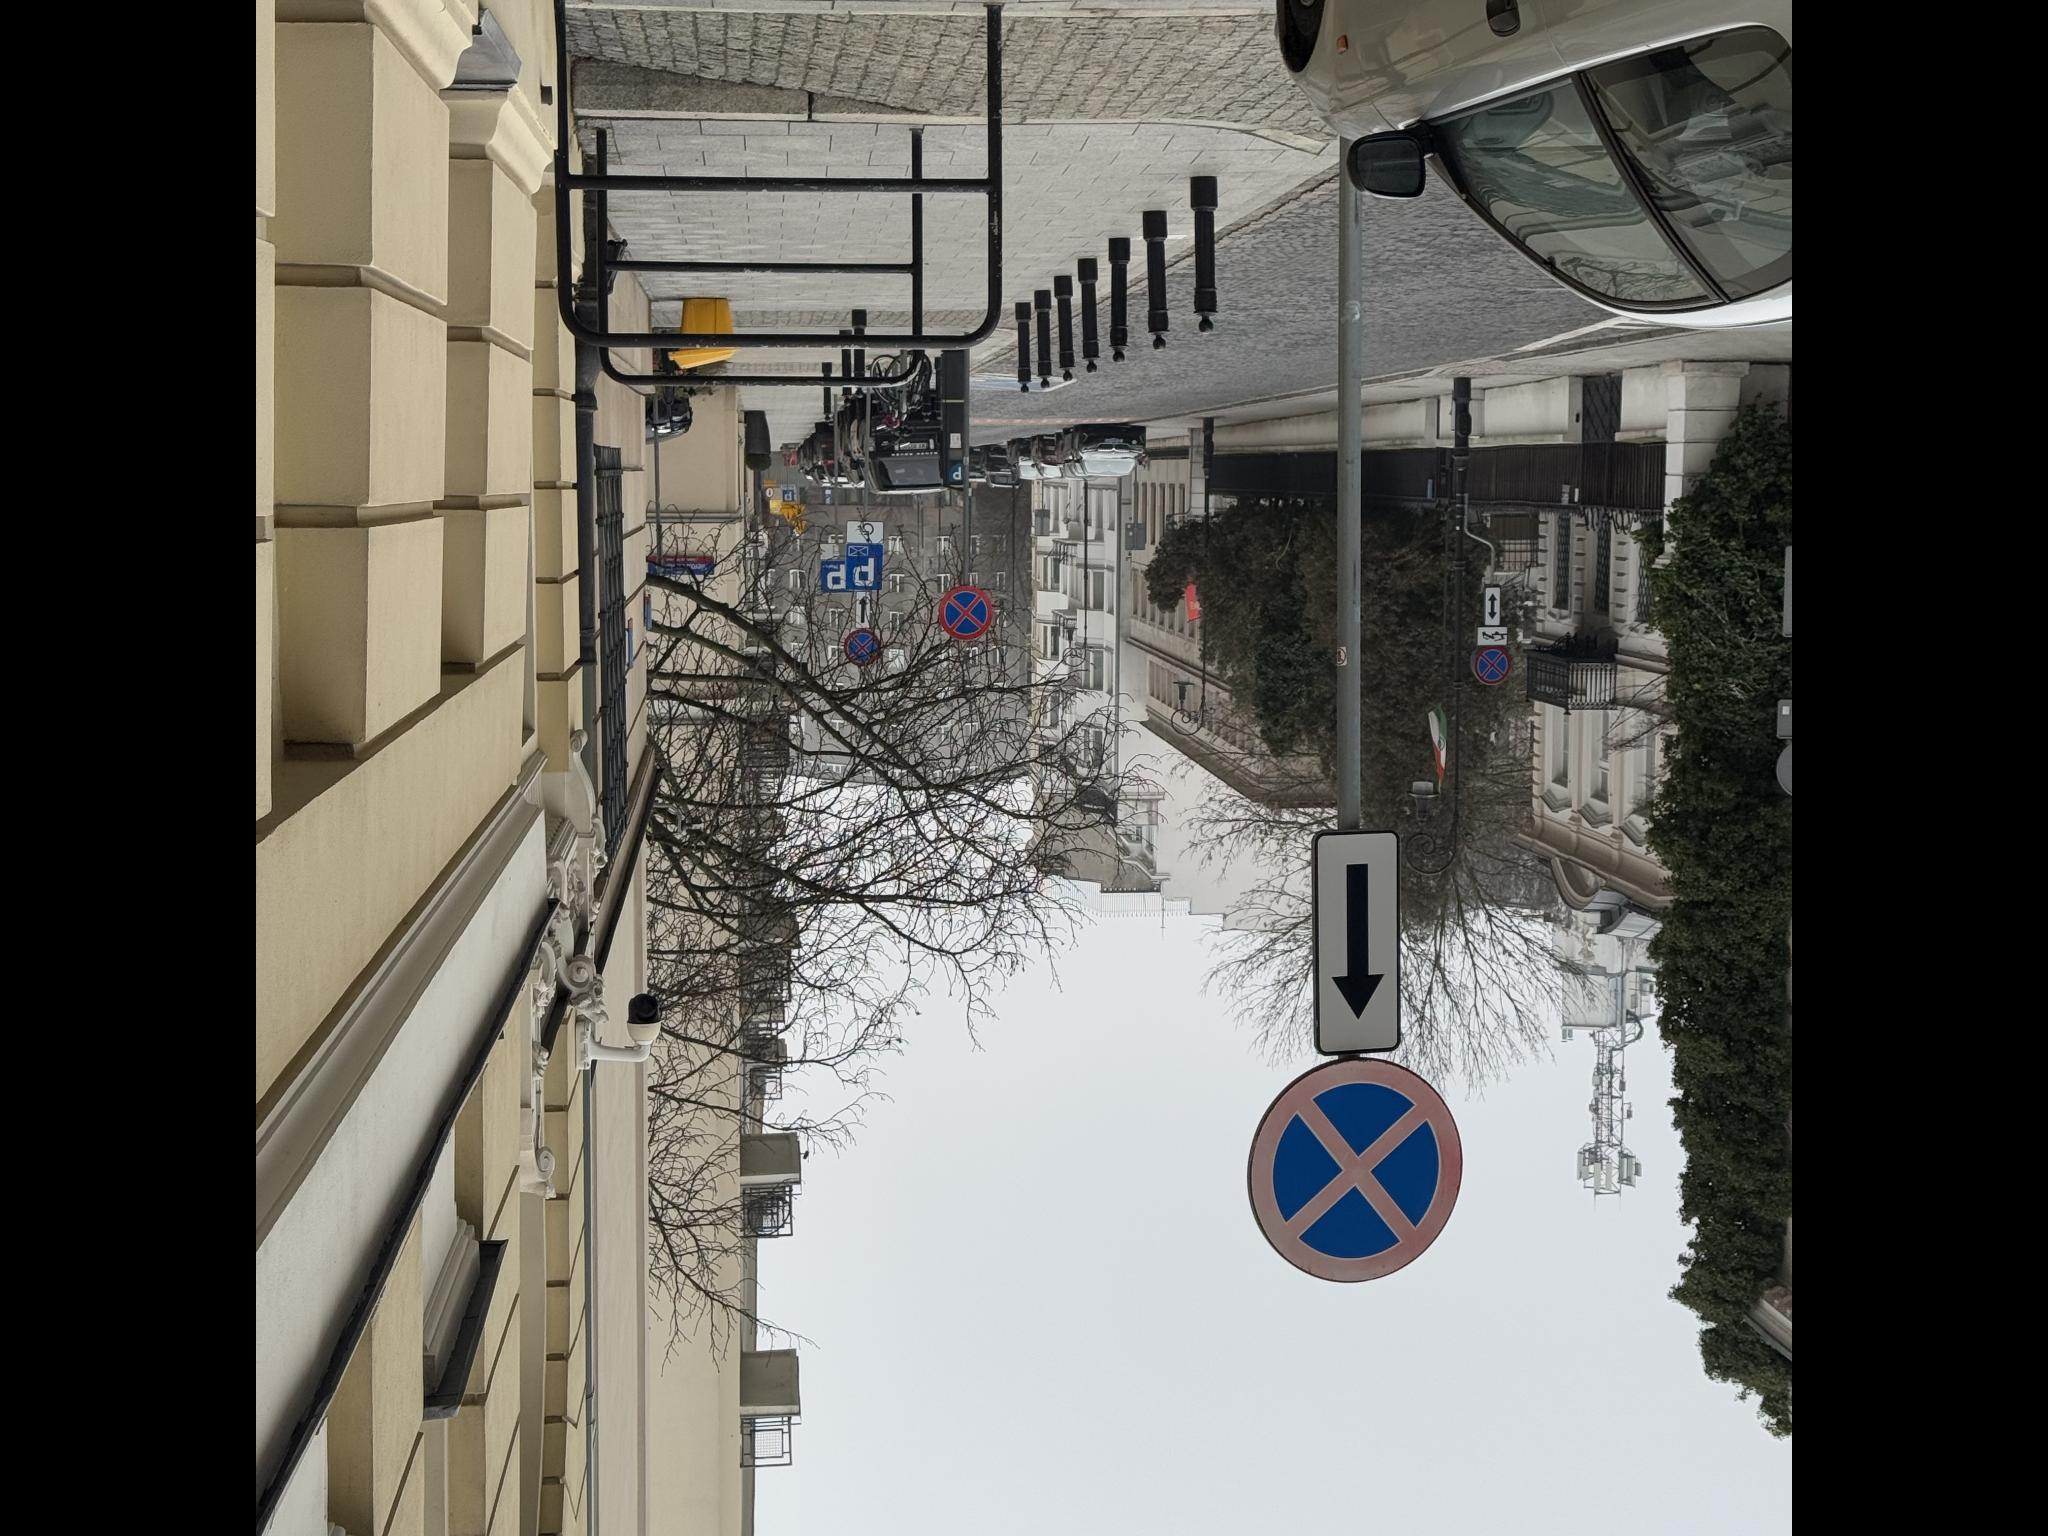information: (1458, 845, 1506, 883), (1456, 820, 1487, 852)
other: (998, 1310, 1219, 1399), (1506, 845, 1529, 884), (1422, 1484, 1463, 1501), (1421, 855, 1458, 871), (1403, 1478, 1422, 1509)
prohibitory: (764, 1246, 992, 1465), (1409, 939, 1464, 992), (1364, 1471, 1405, 1512), (1382, 844, 1419, 881)
